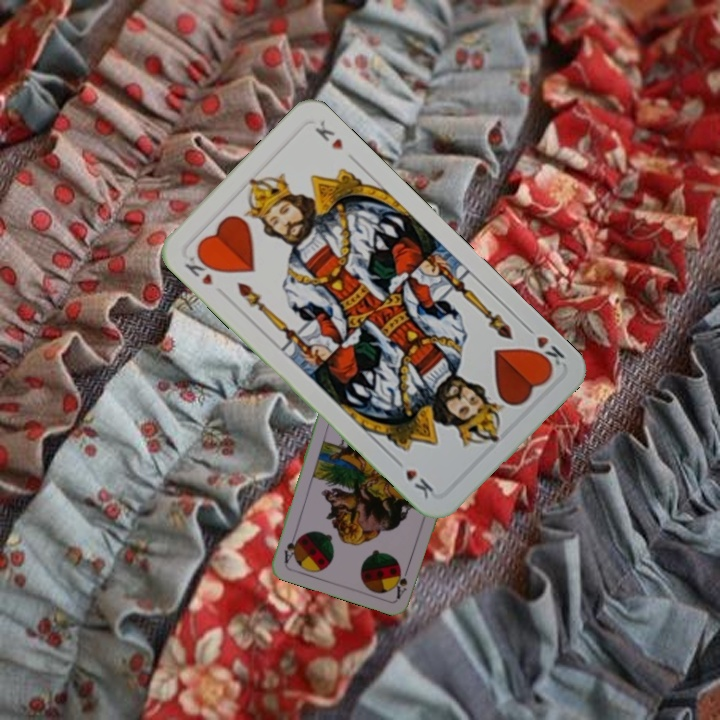HK: (520, 320, 568, 373), (180, 248, 219, 288)
SA: (391, 561, 412, 601)
